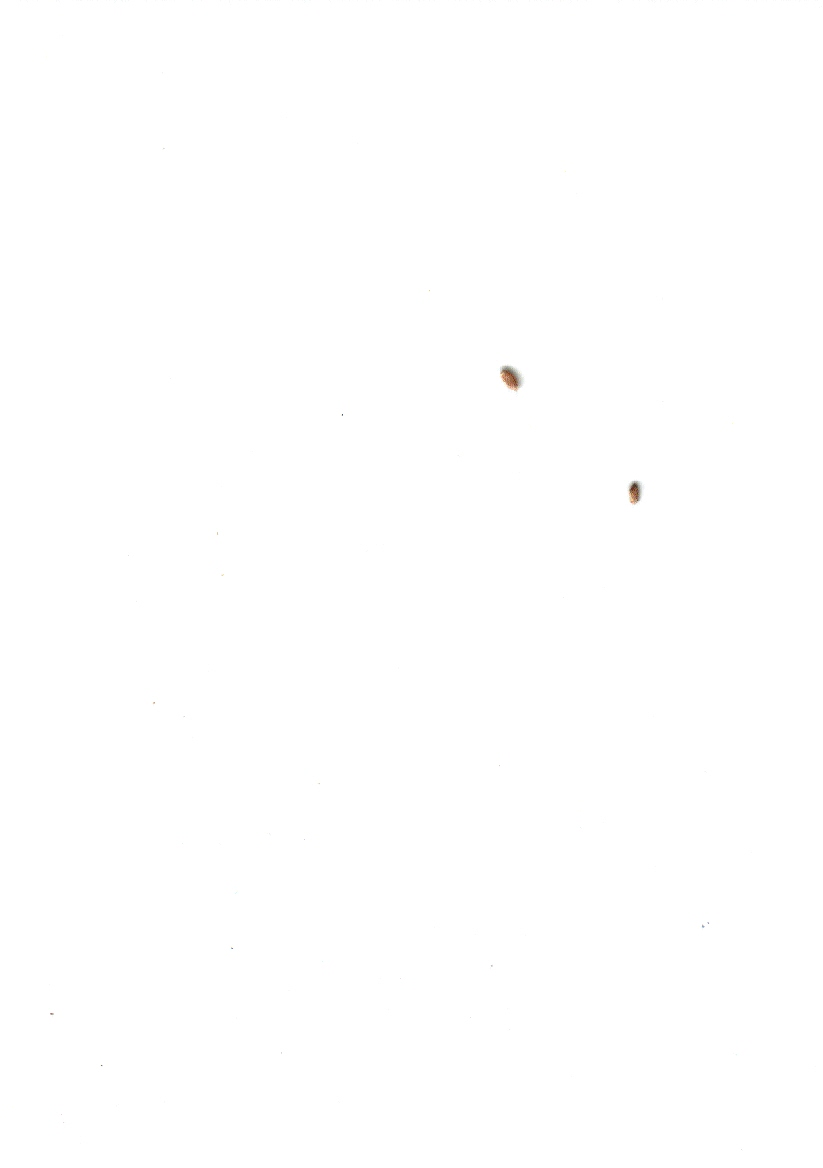grains: (481, 355, 533, 410), (614, 471, 650, 516)
